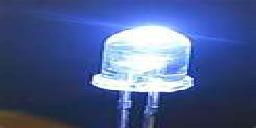LED: (87, 22, 200, 128)
